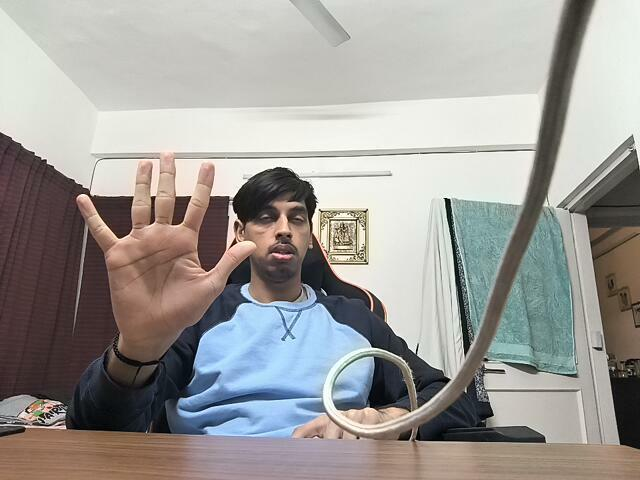STOP: (67, 148, 258, 348)
